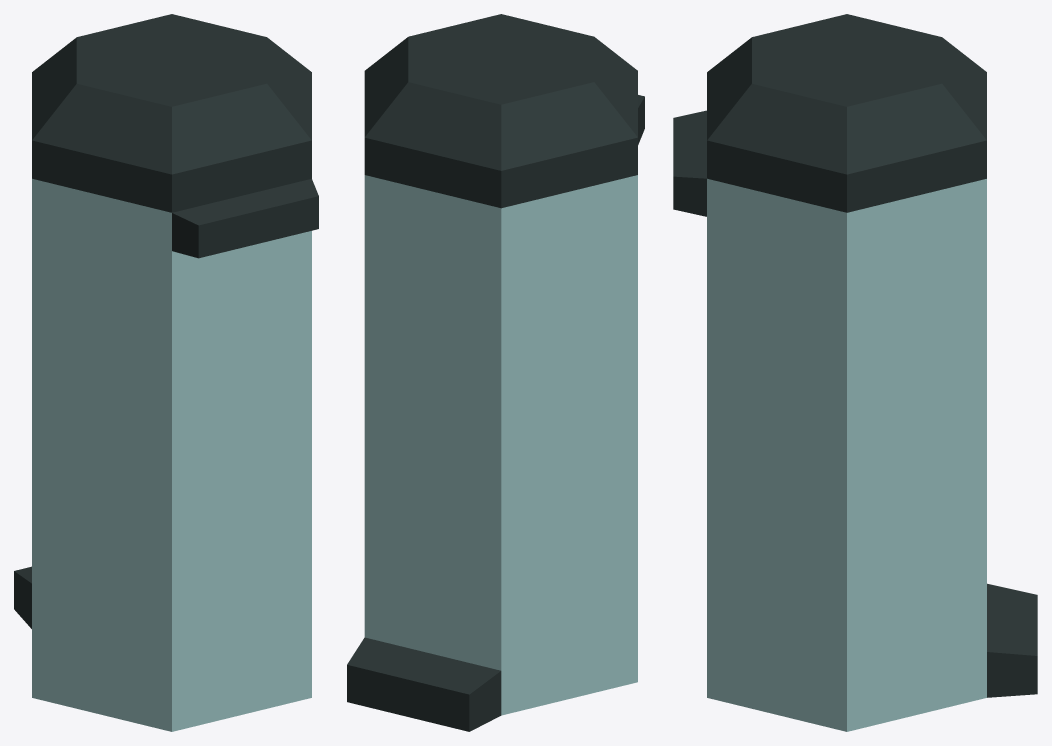
The model's file is trashcan.glb.
3 views of the same model, side by side, from view 1: azimuth 30°, elevation 25°; view 2: azimuth 150°, elevation 25°; view 3: azimuth 270°, elevation 25° (orthographic). The views are drawn at different scales.
Bounding box in the file's own units: 2.08 × 4.28 × 2.34.
